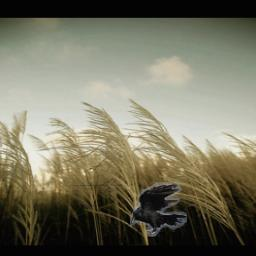Crow: (131, 183, 188, 237)
